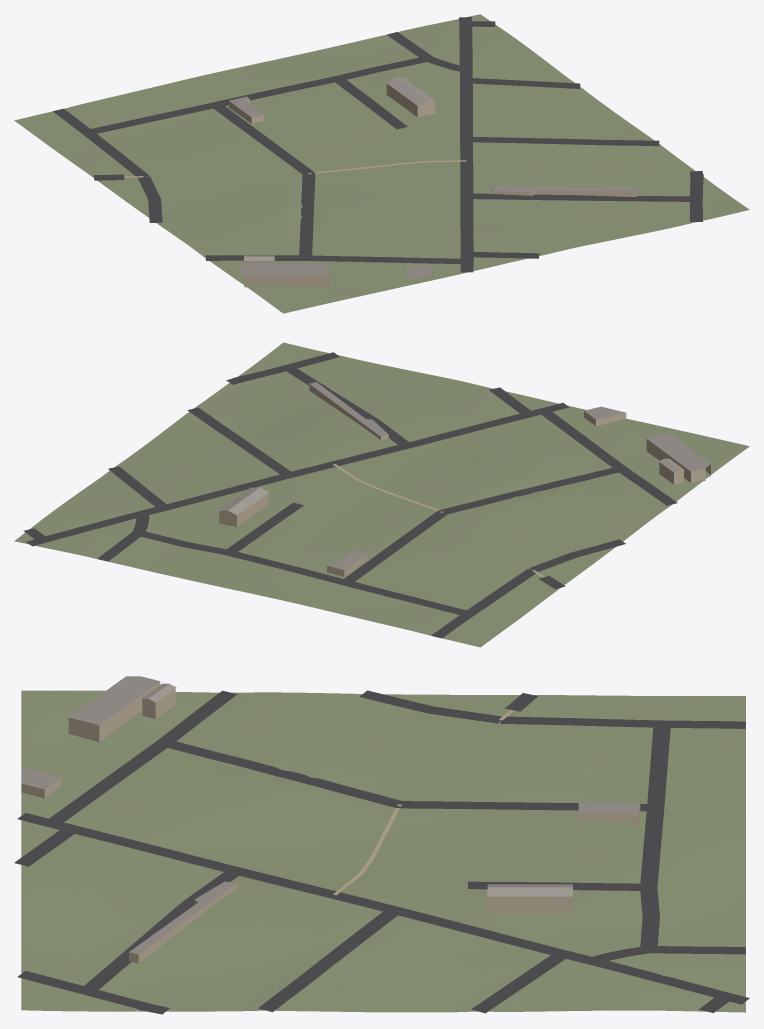
The picture shows the model from 3 angles, top to bottom: view 1: azimuth 30°, elevation 25°; view 2: azimuth 150°, elevation 25°; view 3: azimuth 270°, elevation 25°; orthographic projection. The views are drawn at different scales.
Parts seen in each view (by area): view 1: ground, road, walls, roofs, sheetRoofs; view 2: ground, road, walls, roofs, sheetRoofs; view 3: ground, road, walls, roofs, sheetRoofs.
Boxes of the visible parts, x1,y1,x2,y2 form: ground: [14, 14, 749, 313]; road: [53, 17, 703, 272]; walls: [228, 83, 636, 287]; roofs: [229, 96, 636, 279]; sheetRoofs: [243, 77, 435, 260]; ground: [14, 342, 749, 647]; road: [24, 352, 677, 638]; walls: [219, 384, 710, 576]; roofs: [309, 382, 710, 569]; sheetRoofs: [219, 458, 684, 515]; ground: [21, 690, 745, 1012]; road: [14, 690, 749, 1014]; walls: [21, 681, 640, 963]; roofs: [21, 676, 639, 954]; sheetRoofs: [141, 683, 572, 896].
Size of the model in its own units: 255 by 12.5 by 254.
